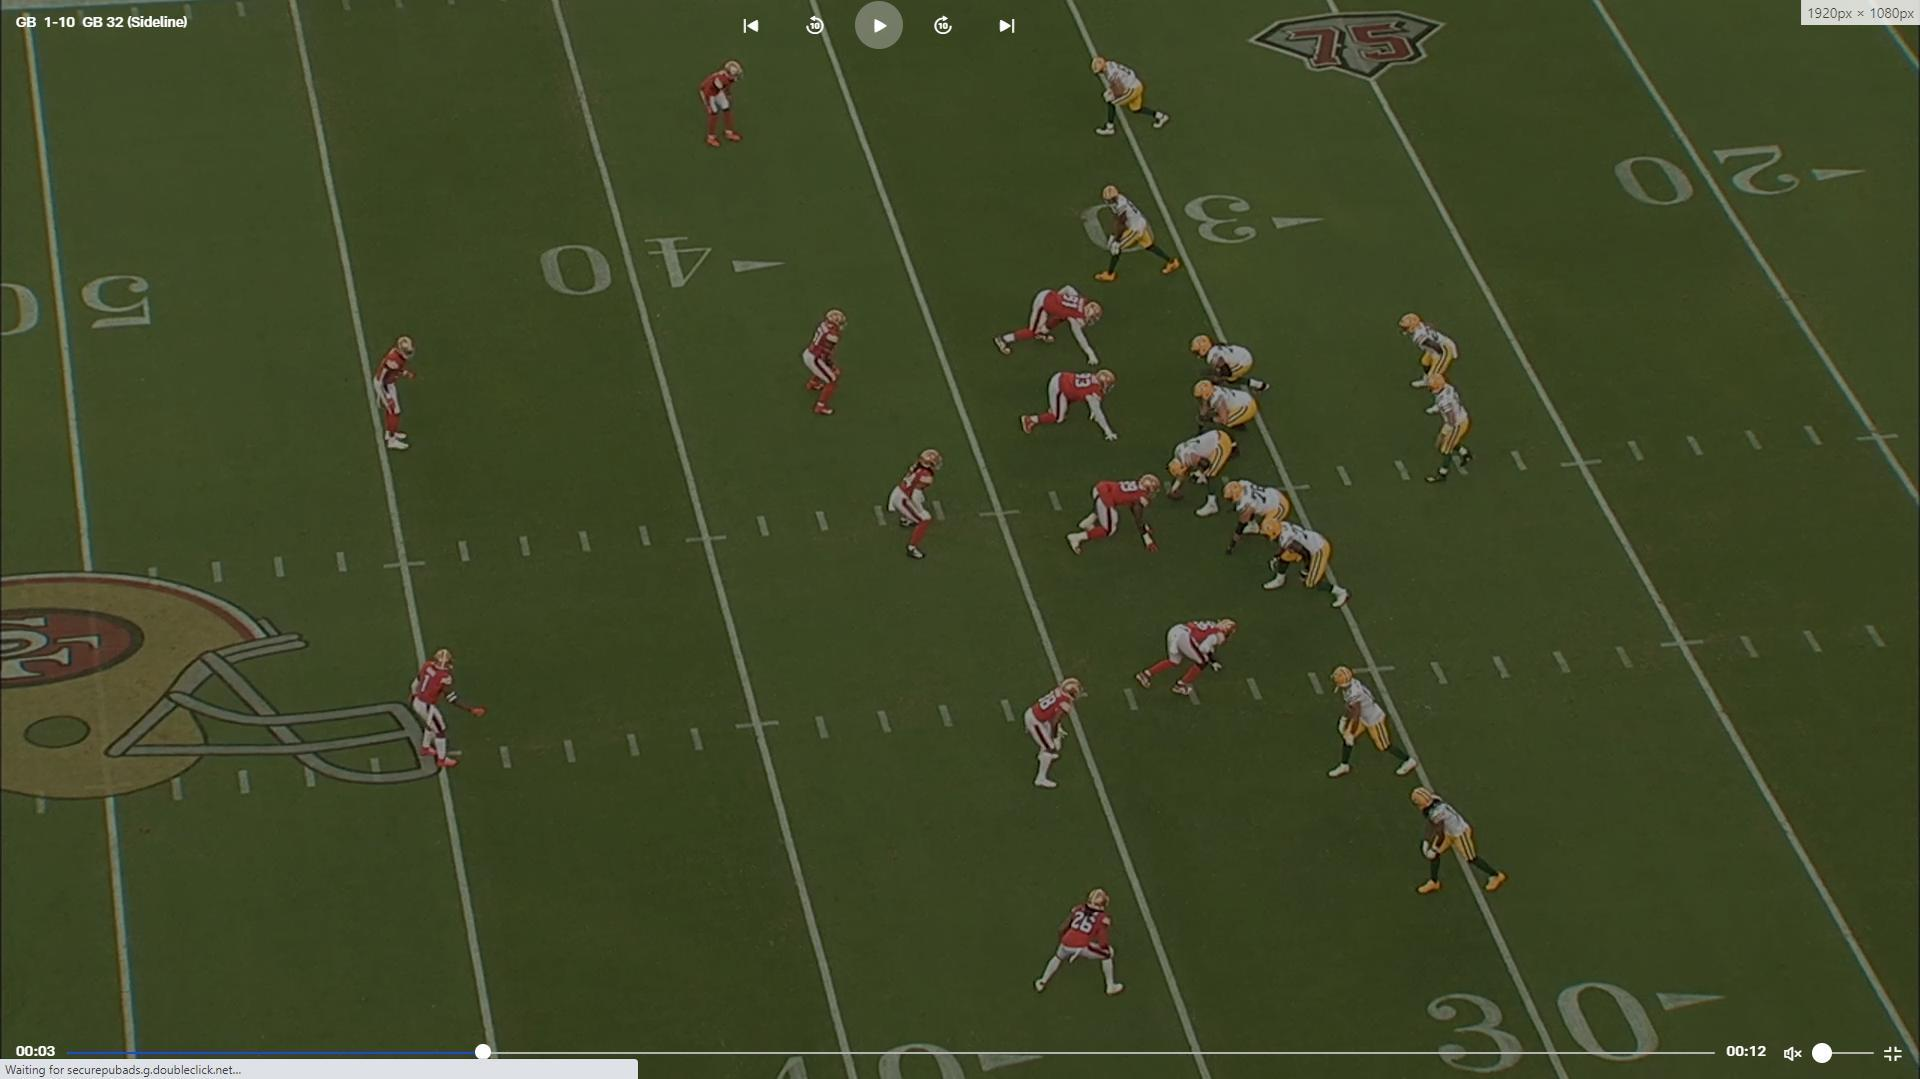player: (1411, 783, 1516, 904), (1326, 663, 1425, 787), (1032, 887, 1129, 1006), (411, 646, 487, 776), (993, 282, 1109, 362), (1097, 184, 1185, 289), (1133, 614, 1241, 698), (1062, 469, 1163, 555), (1262, 520, 1354, 611), (1017, 369, 1124, 444), (882, 442, 946, 566), (1023, 673, 1089, 792), (1091, 54, 1176, 144), (1160, 430, 1235, 518), (374, 335, 426, 459), (1427, 367, 1481, 486), (1398, 312, 1457, 420), (803, 305, 855, 422), (1188, 378, 1260, 459), (1221, 475, 1295, 551), (1190, 332, 1274, 398), (700, 56, 753, 153)
